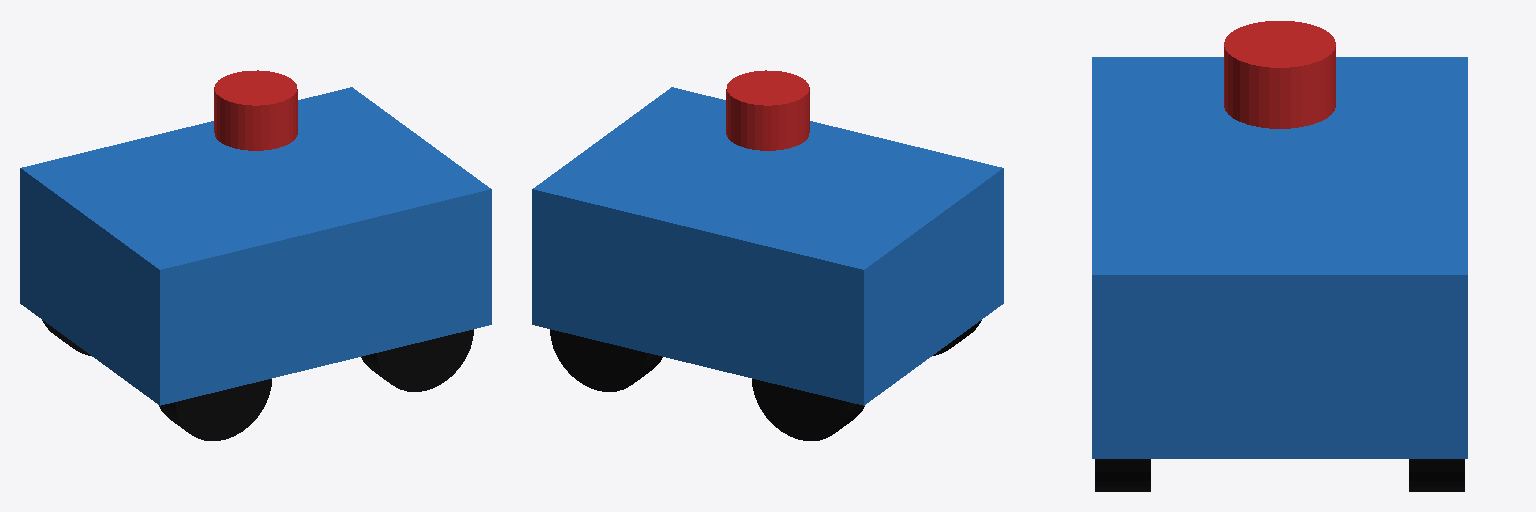
The robot description file, URDF, robot "whale_car":
<?xml version="1.0"?>
<robot name="whale_car">
  
  <!-- 机器人底盘参数 -->
  <!-- 长度: 460mm, 宽度: 335mm, 高度: 180mm -->
  
  <!-- ==================== 坐标系定义 ==================== -->
  
  <!-- base_footprint: 地面投影点，机器人与地面的接触中心 -->
  <link name="base_footprint">
    <visual>
      <origin xyz="0 0 0" rpy="0 0 0"/>
      <geometry>
        <box size="0.01 0.01 0.001"/>
      </geometry>
      <material name="white">
        <color rgba="1 1 1 0.5"/>
      </material>
    </visual>
  </link>
  
  <!-- base_link: 机器人几何中心，位于底盘中心高度 -->
  <link name="base_link">
    <visual>
      <origin xyz="0 0 0" rpy="0 0 0"/>
      <geometry>
        <!-- 底盘主体: 460mm x 335mm x 180mm -->
        <box size="0.460 0.335 0.180"/>
      </geometry>
      <material name="blue">
        <color rgba="0.2 0.5 0.8 0.8"/>
      </material>
    </visual>
    <collision>
      <origin xyz="0 0 0" rpy="0 0 0"/>
      <geometry>
        <box size="0.460 0.335 0.180"/>
      </geometry>
    </collision>
    <inertial>
      <mass value="6.0"/>
      <origin xyz="0 0 0" rpy="0 0 0"/>
      <inertia ixx="0.1" ixy="0.0" ixz="0.0" iyy="0.1" iyz="0.0" izz="0.1"/>
    </inertial>
  </link>
  
  <!-- base_footprint到base_link的变换 -->
  <!-- base_link位于底盘几何中心，高度为底盘高度的一半: 180mm/2 = 90mm -->
  <joint name="base_footprint_to_base_link" type="fixed">
    <parent link="base_footprint"/>
    <child link="base_link"/>
    <origin xyz="0 0 0.090" rpy="0 0 0"/>
  </joint>
  
  <!-- laser_link: 激光雷达坐标系 -->
  <link name="laser_link">
    <visual>
      <origin xyz="0 0 0" rpy="0 0 0"/>
      <geometry>
        <!-- 雷达可视化为圆柱体 -->
        <cylinder radius="0.05" length="0.06"/>
      </geometry>
      <material name="red">
        <color rgba="0.8 0.2 0.2 0.8"/>
      </material>
    </visual>
    <collision>
      <origin xyz="0 0 0" rpy="0 0 0"/>
      <geometry>
        <cylinder radius="0.05" length="0.06"/>
      </geometry>
    </collision>
    <inertial>
      <mass value="0.2"/>
      <origin xyz="0 0 0" rpy="0 0 0"/>
      <inertia ixx="0.001" ixy="0.0" ixz="0.0" iyy="0.001" iyz="0.0" izz="0.001"/>
    </inertial>
  </link>
  
  <!-- base_link到laser_link的变换 -->
  <!-- 雷达在底盘正中心水平位置，距离底盘顶部90mm -->
  <!-- 底盘顶部相对base_link高度: 180mm/2 = 90mm -->
  <!-- 雷达相对base_link高度: 90mm(到顶部) + 90mm(顶部向上) = 180mm -->
  <!-- 雷达反向安装：绕x轴旋转180度(pi弧度) + 绕z轴旋转180度 -->
  <!-- rpy="roll pitch yaw" = rpy="π 0 π" 实现Y轴镜像和X轴反向 -->
  <joint name="base_link_to_laser" type="fixed">
    <parent link="base_link"/>
    <child link="laser_link"/>
    <origin xyz="0 0 0.180" rpy="3.14159265359 0 3.14159265359"/>
  </joint>
  
  <!-- ==================== 车轮定义 ==================== -->
  <!-- 用于可视化，实际运动由里程计节点控制 -->
  
  <!-- 左前轮 -->
  <link name="left_front_wheel">
    <visual>
      <origin xyz="0 0 0" rpy="1.5708 0 0"/>
      <geometry>
        <cylinder radius="0.0675" length="0.05"/>
      </geometry>
      <material name="black">
        <color rgba="0.1 0.1 0.1 1.0"/>
      </material>
    </visual>
  </link>
  
  <joint name="left_front_wheel_joint" type="continuous">
    <parent link="base_link"/>
    <child link="left_front_wheel"/>
    <!-- 轴距280mm/2=140mm, 轮距280mm/2=140mm -->
    <origin xyz="0.140 0.140 -0.090" rpy="0 0 0"/>
    <axis xyz="0 1 0"/>
  </joint>
  
  <!-- 右前轮 -->
  <link name="right_front_wheel">
    <visual>
      <origin xyz="0 0 0" rpy="1.5708 0 0"/>
      <geometry>
        <cylinder radius="0.0675" length="0.05"/>
      </geometry>
      <material name="black">
        <color rgba="0.1 0.1 0.1 1.0"/>
      </material>
    </visual>
  </link>
  
  <joint name="right_front_wheel_joint" type="continuous">
    <parent link="base_link"/>
    <child link="right_front_wheel"/>
    <origin xyz="0.140 -0.140 -0.090" rpy="0 0 0"/>
    <axis xyz="0 1 0"/>
  </joint>
  
  <!-- 左后轮 -->
  <link name="left_back_wheel">
    <visual>
      <origin xyz="0 0 0" rpy="1.5708 0 0"/>
      <geometry>
        <cylinder radius="0.0675" length="0.05"/>
      </geometry>
      <material name="black">
        <color rgba="0.1 0.1 0.1 1.0"/>
      </material>
    </visual>
  </link>
  
  <joint name="left_back_wheel_joint" type="continuous">
    <parent link="base_link"/>
    <child link="left_back_wheel"/>
    <origin xyz="-0.140 0.140 -0.090" rpy="0 0 0"/>
    <axis xyz="0 1 0"/>
  </joint>
  
  <!-- 右后轮 -->
  <link name="right_back_wheel">
    <visual>
      <origin xyz="0 0 0" rpy="1.5708 0 0"/>
      <geometry>
        <cylinder radius="0.0675" length="0.05"/>
      </geometry>
      <material name="black">
        <color rgba="0.1 0.1 0.1 1.0"/>
      </material>
    </visual>
  </link>
  
  <joint name="right_back_wheel_joint" type="continuous">
    <parent link="base_link"/>
    <child link="right_back_wheel"/>
    <origin xyz="-0.140 -0.140 -0.090" rpy="0 0 0"/>
    <axis xyz="0 1 0"/>
  </joint>
  
</robot>

--- Render facts (derived) ---
The picture shows the robot from 3 angles, left to right: view 1: azimuth 30°, elevation 25°; view 2: azimuth 150°, elevation 25°; view 3: azimuth 270°, elevation 25°; orthographic projection.
Robot: whale_car — 7 links, 6 joints (4 continuous, 2 fixed); root link base_footprint; default pose: all joints at 0.
Visible links, largest first — view 1: base_link, laser_link, right_front_wheel, right_back_wheel; view 2: base_link, laser_link, left_front_wheel, left_back_wheel; view 3: base_link, laser_link, left_front_wheel, right_front_wheel.
Link boxes in pixels (bbox=[...]): base_link: bbox=[20, 87, 491, 405]; laser_link: bbox=[214, 70, 297, 150]; right_front_wheel: bbox=[361, 329, 473, 391]; right_back_wheel: bbox=[159, 379, 271, 440]; base_link: bbox=[532, 87, 1003, 405]; laser_link: bbox=[726, 70, 809, 150]; left_front_wheel: bbox=[550, 329, 662, 391]; left_back_wheel: bbox=[752, 379, 864, 440]; base_link: bbox=[1092, 57, 1467, 458]; laser_link: bbox=[1224, 21, 1335, 128]; left_front_wheel: bbox=[1409, 459, 1464, 491]; right_front_wheel: bbox=[1095, 459, 1150, 491].
Bounding box of the posed robot: 0.46 × 0.335 × 0.3675 m (x, y, z).
Geometry: primitives only (box / cylinder / sphere), no mesh files.
